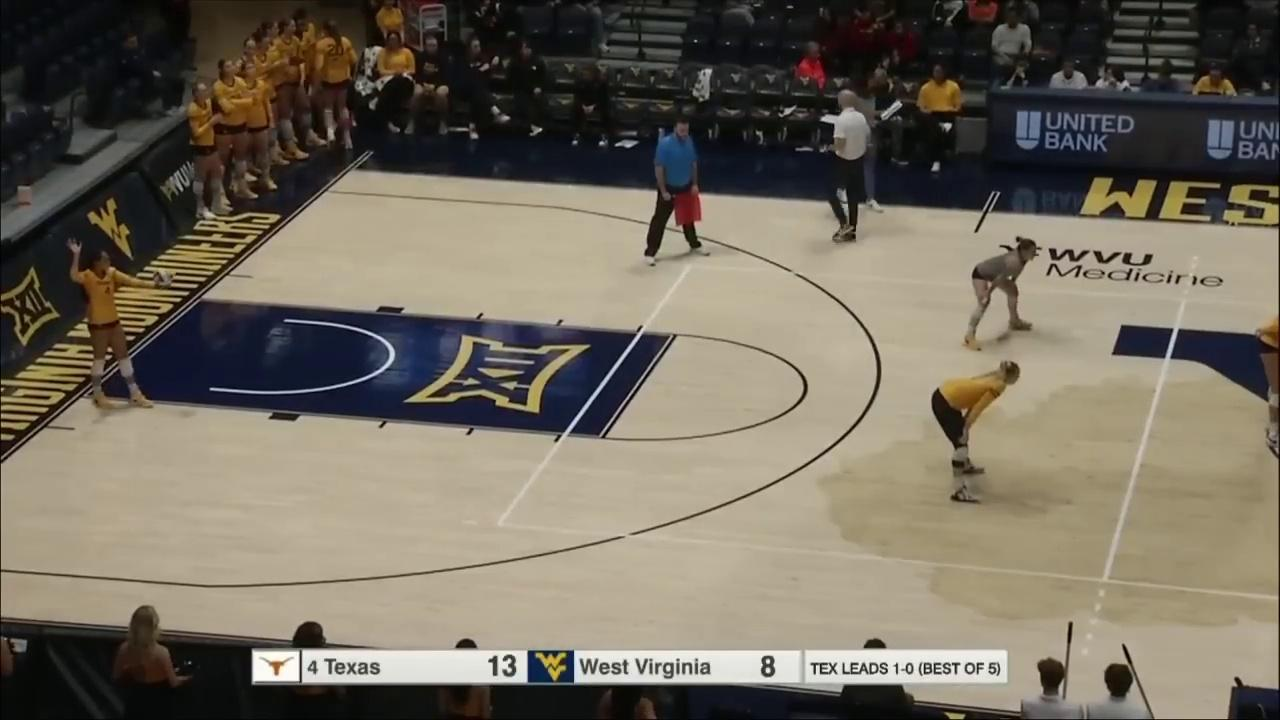player: (67, 235, 165, 411), (932, 363, 1021, 503), (961, 239, 1040, 350), (1253, 307, 1280, 459)
refree: (642, 117, 713, 265)
